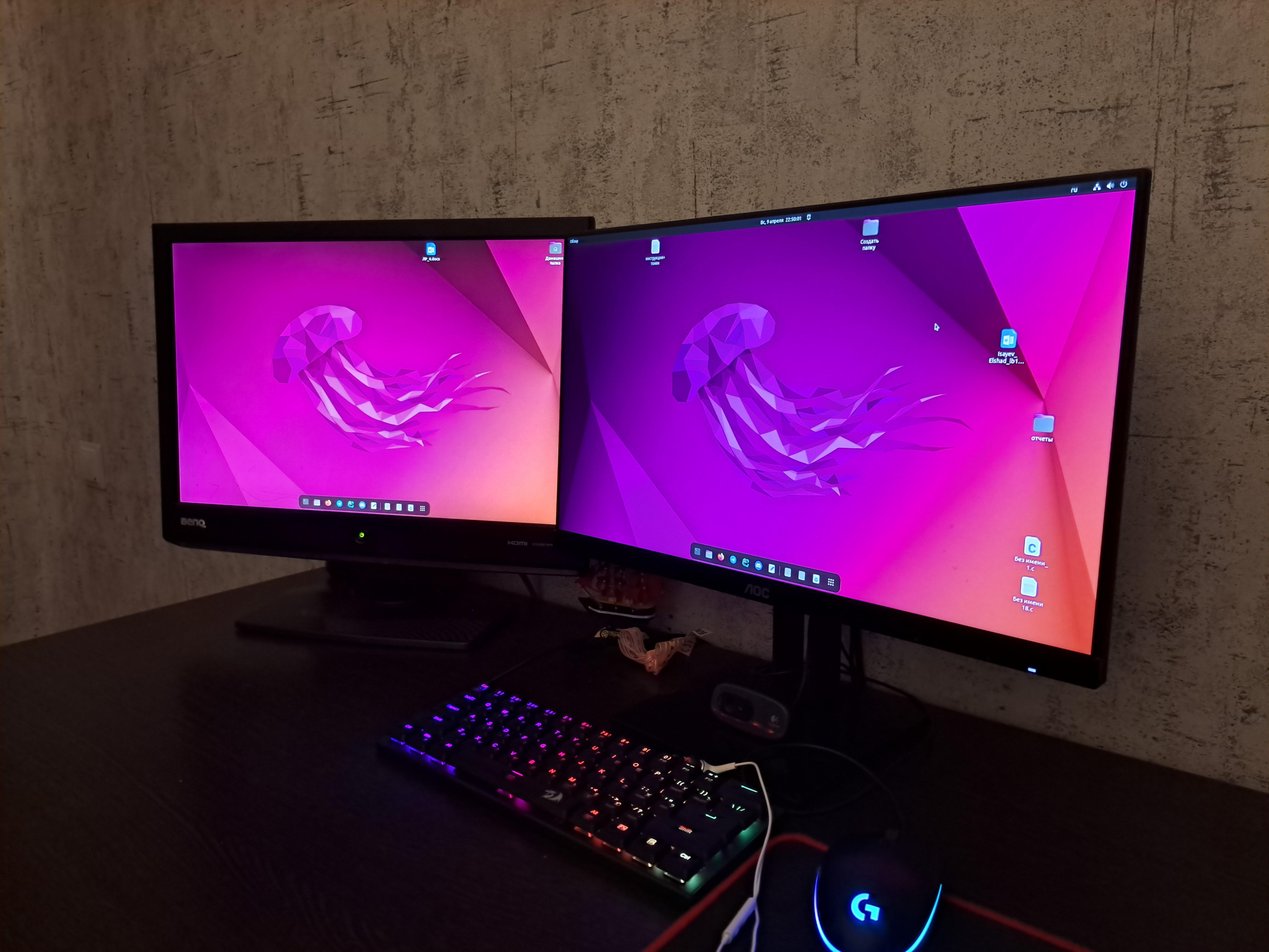monitor: (553, 162, 1155, 696), (147, 214, 597, 581)
